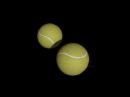tennis ball: (55, 42, 90, 77), (36, 22, 64, 49)
